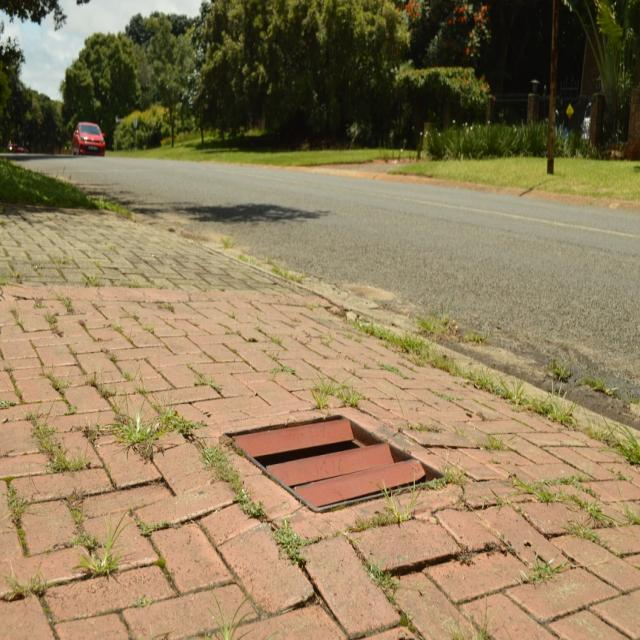Car: (72, 122, 105, 155)
Tree: (146, 13, 194, 145)
